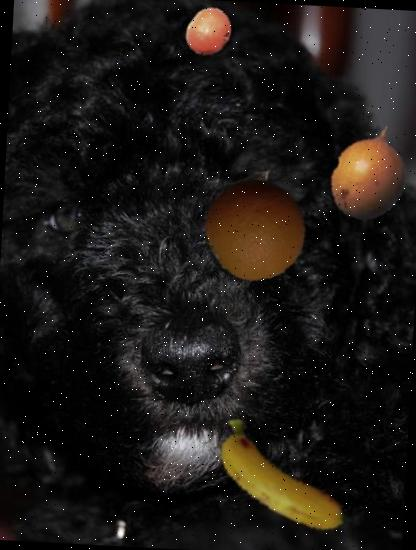Banana: (204, 399, 361, 550)
Clementine: (182, 5, 236, 59)
Eggplant: (220, 158, 276, 214)
Granadilla: (320, 121, 416, 224)
Orange: (202, 176, 309, 283)
